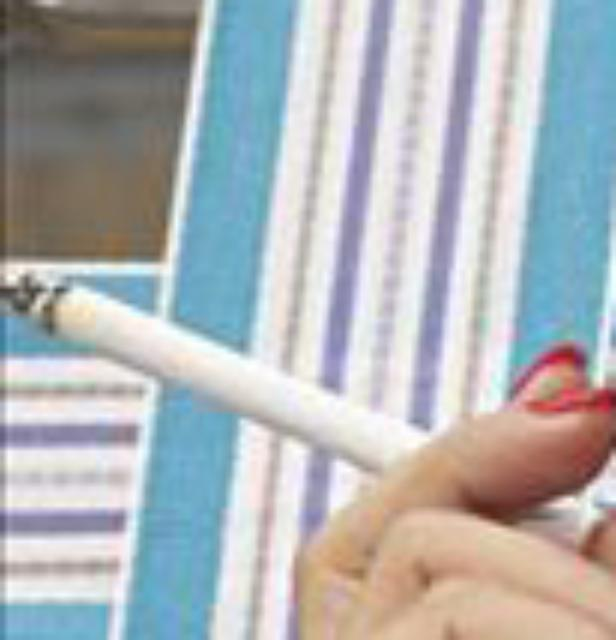Smoking: (0, 258, 586, 550)
